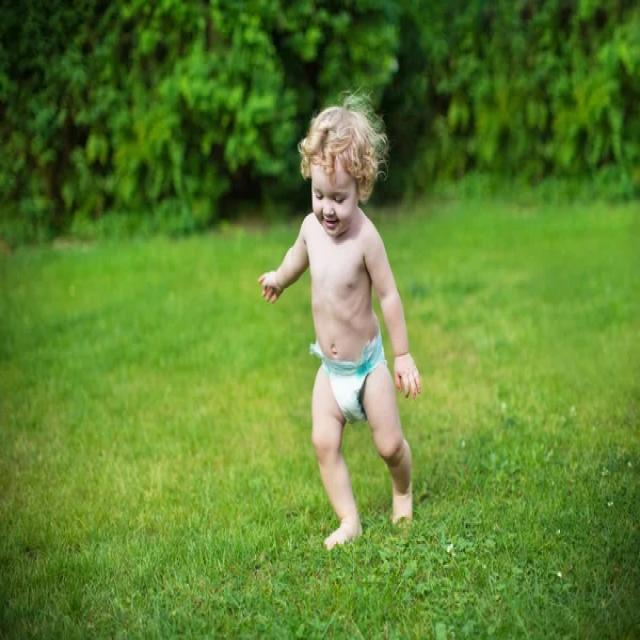Person: (258, 103, 422, 550)
